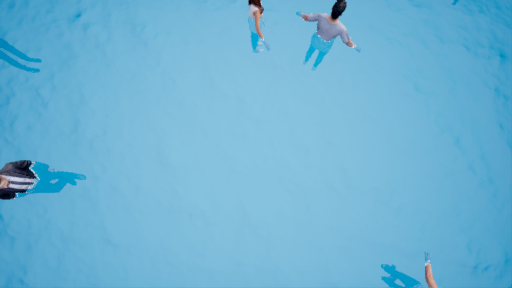person: (1, 159, 84, 203), (301, 1, 348, 74), (375, 251, 442, 288), (240, 1, 279, 58)
